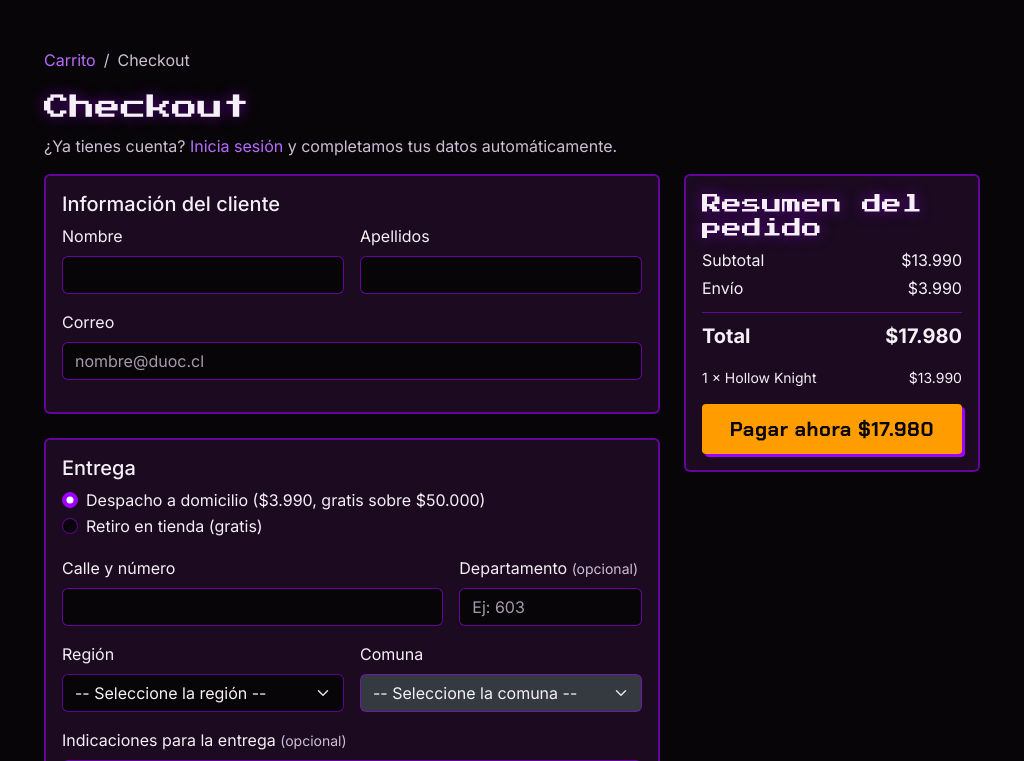
Scenario: Página Checkout › no permite pagar con campos inválidos
The width and height of the screenshot is (1024, 761).
Click the button "Pagar ahora $17.980": (832, 429) [702,404,962,454]
(page scrolled)
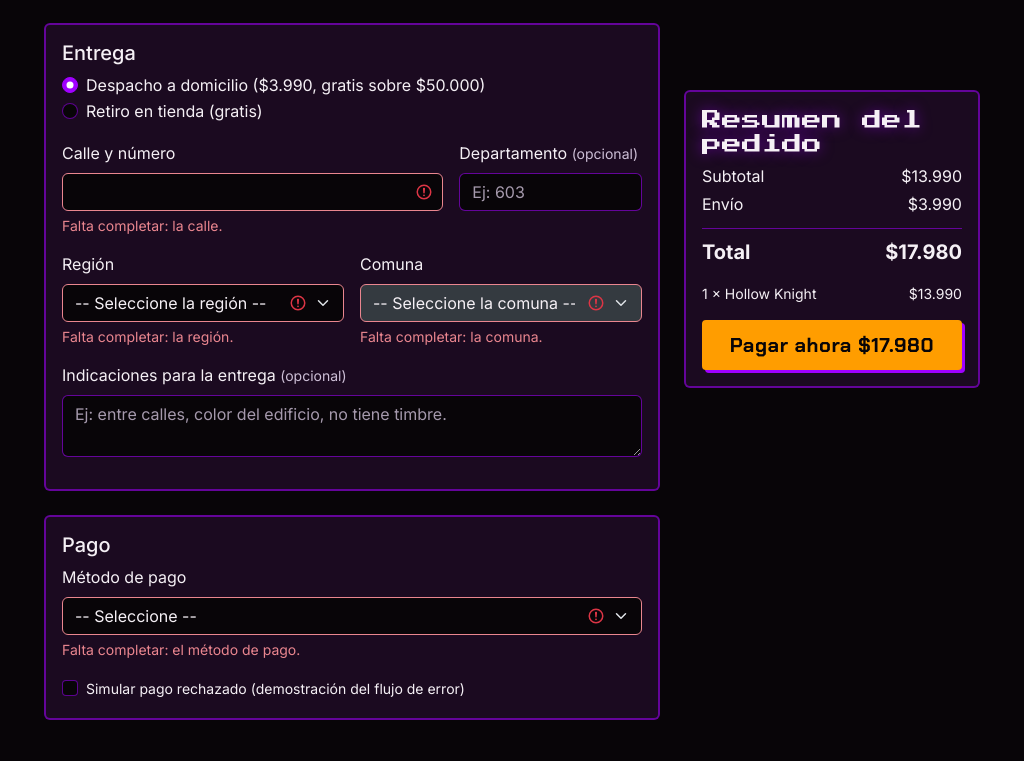
Expected: the text "Falta completar: el método de pago." is shown, [62,641,300,658]
